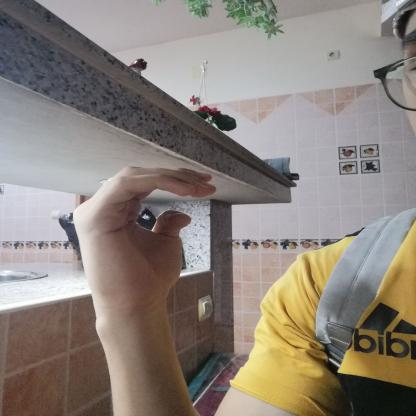JEEM: (55, 151, 229, 318)
